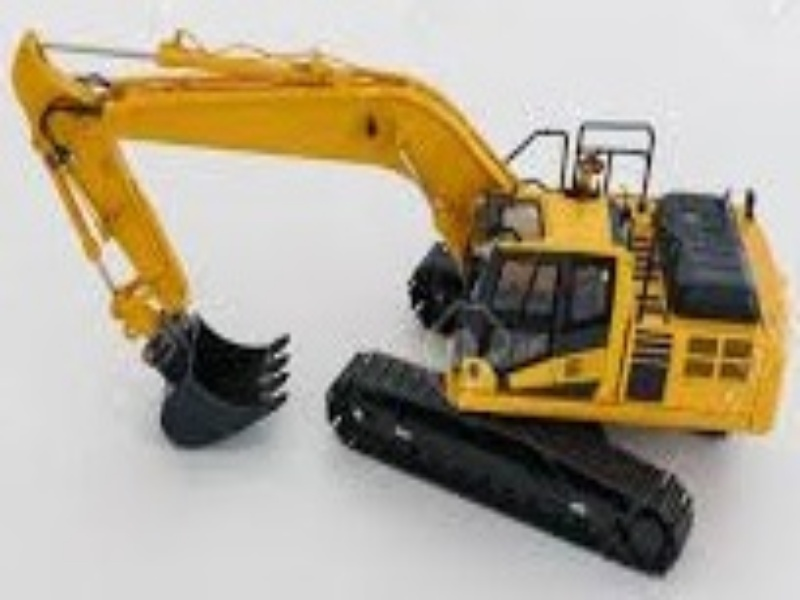wajueji: (266, 45, 798, 600)
